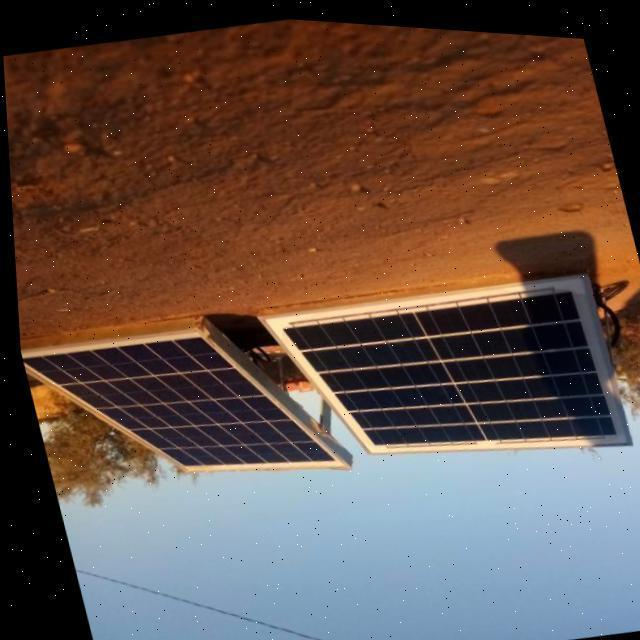Normal Solar Panel: (253, 249, 630, 501), (13, 294, 344, 517)
